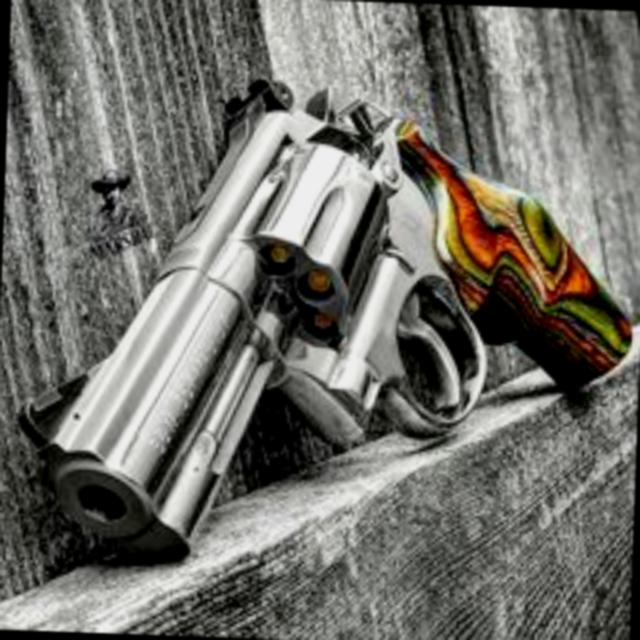revolver: (17, 48, 640, 580)
